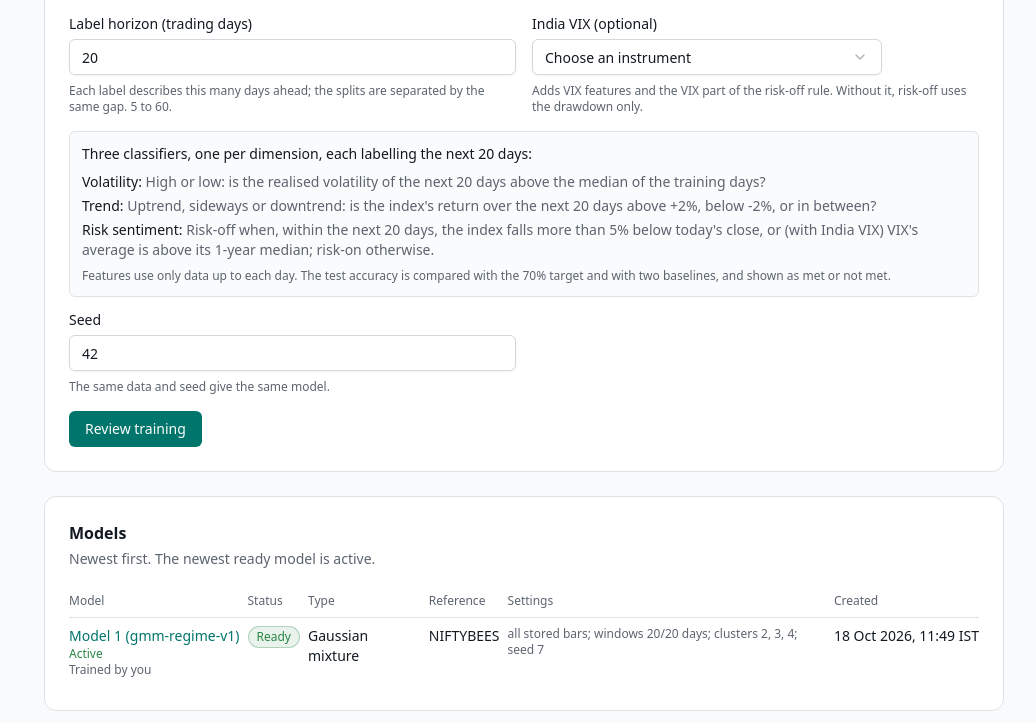
Scenario: RegimePage › training: the backend refusal is shown as sent
(page scrolled)
Click the button "Review training": (135, 429) x1=69 y1=411 x2=202 y2=447
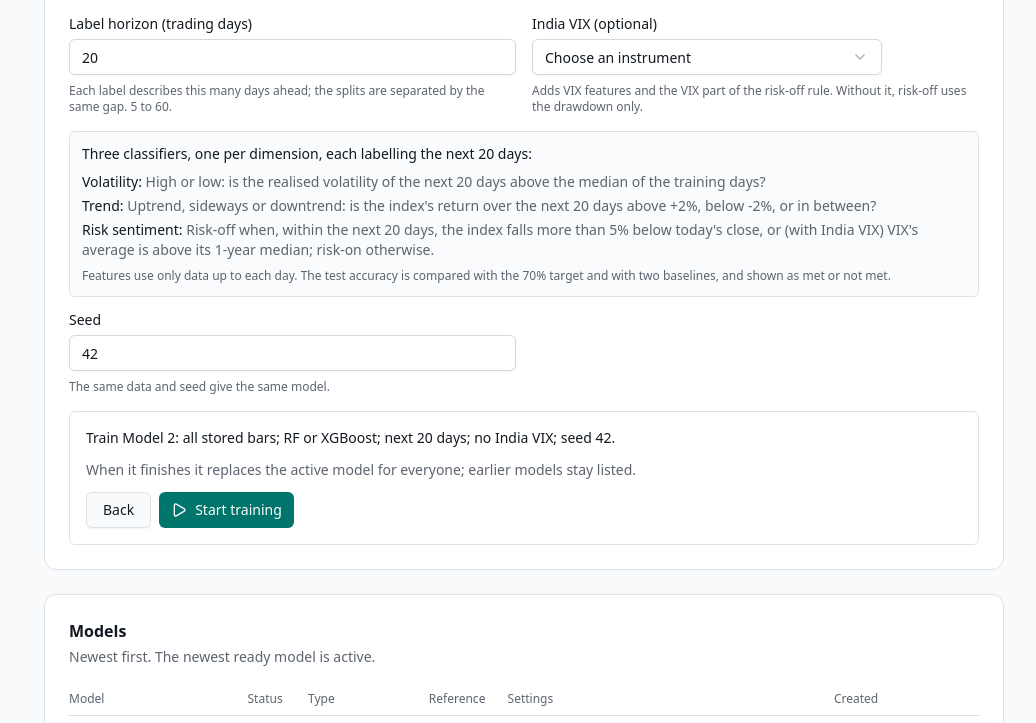
Click the button "Start training": (226, 510) x1=159 y1=492 x2=294 y2=528
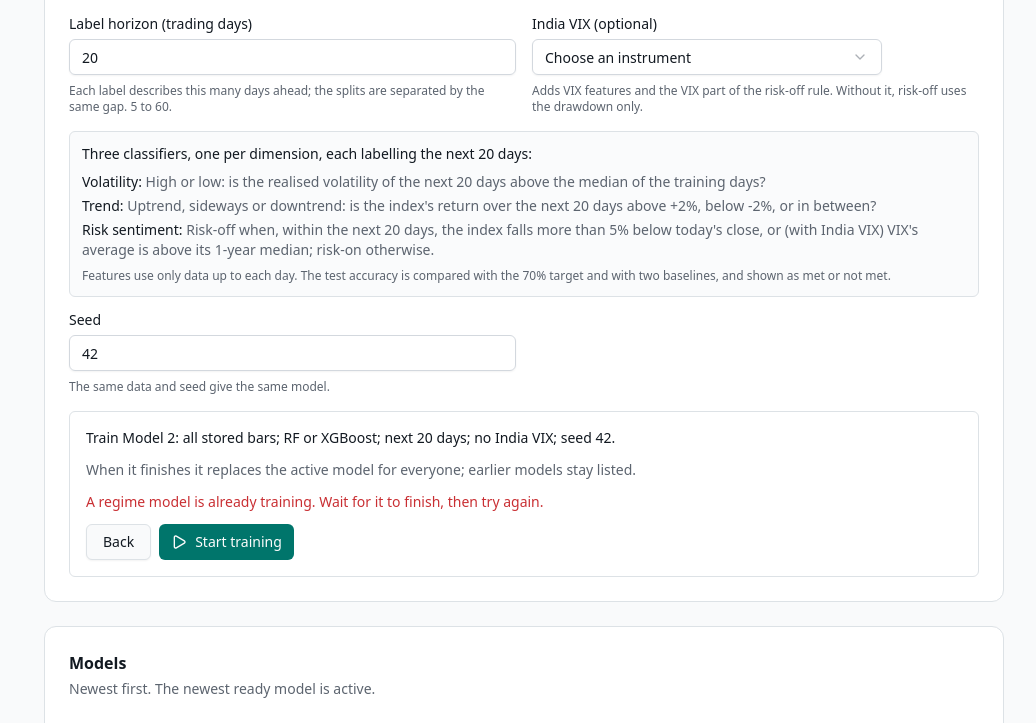
Now the message shows "A regime model is already training.", box x1=86 y1=492 x2=544 y2=511
